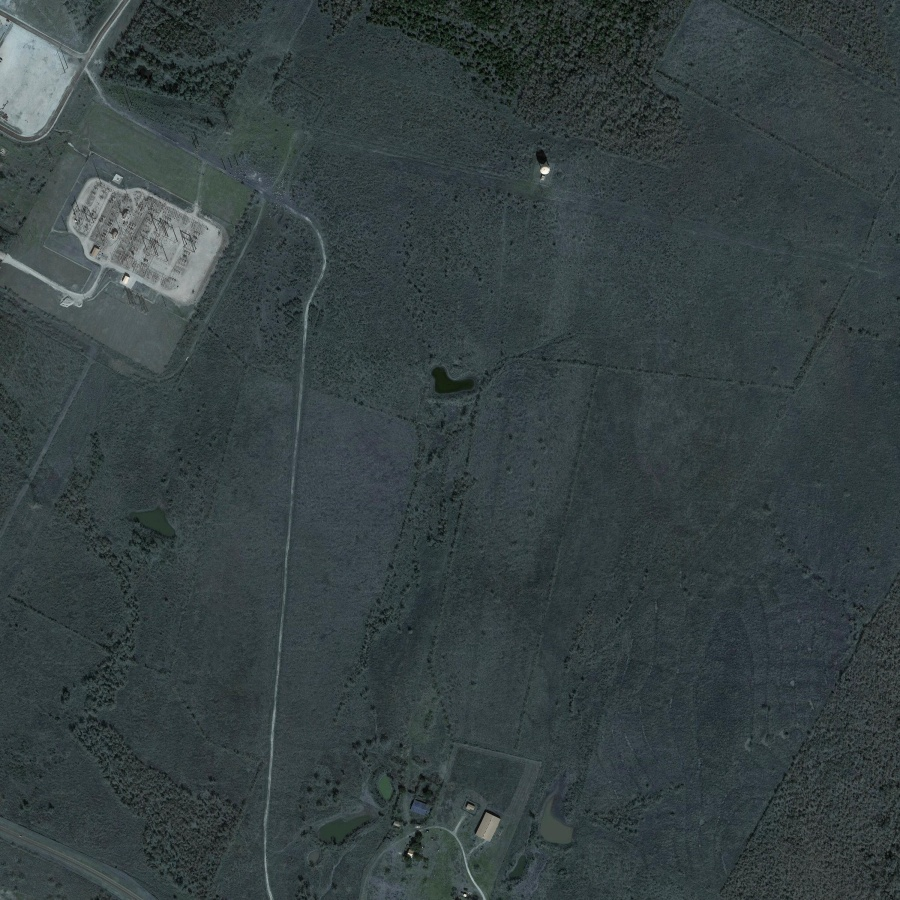PowerPlant: (65, 162, 212, 298)
